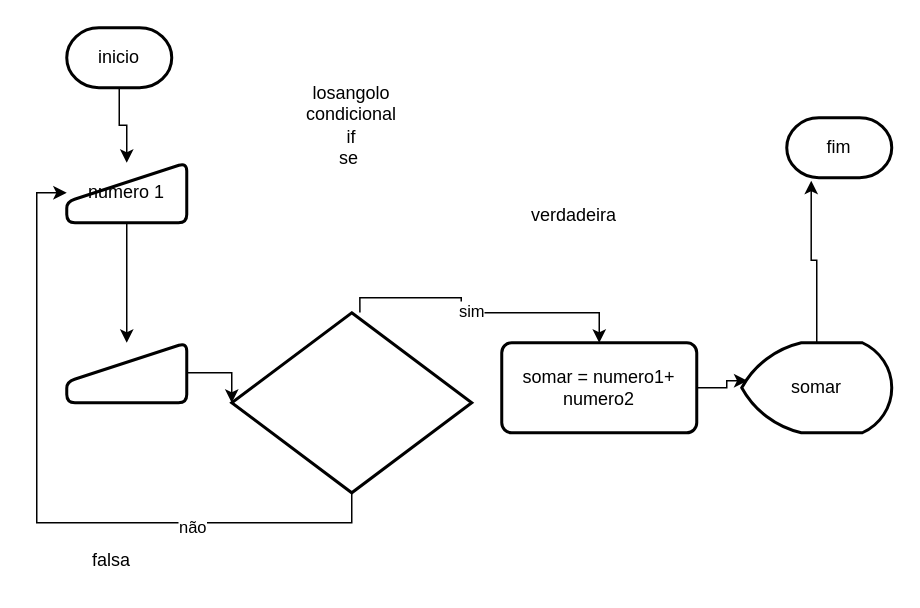
Some shapes in this 920 by 608 pixel diagram are drawn without their labels. The centre of each missing label's shape, as x and y in pixels:
numero 2: [126,372]
os numeros são acima de 10?: [351,402]
